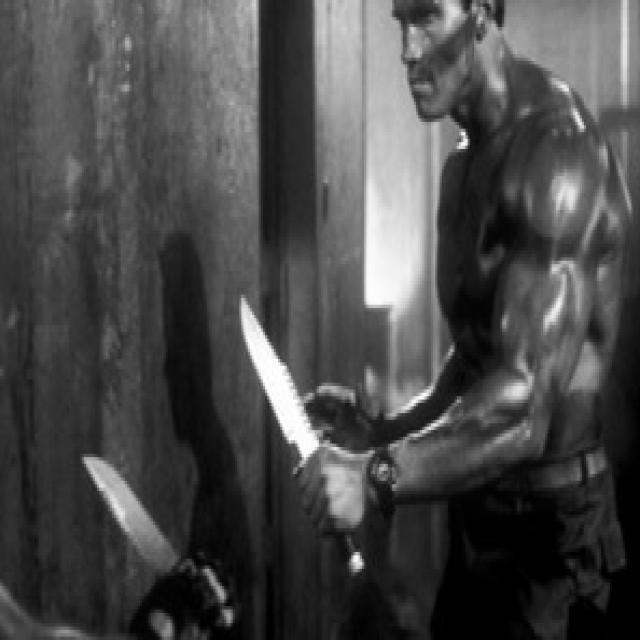knife: (238, 298, 368, 577), (83, 457, 183, 576)
